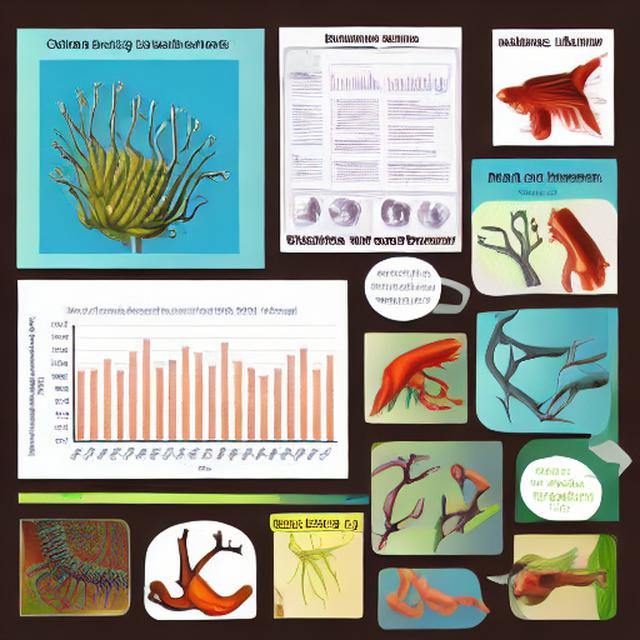Graph: (22, 299, 342, 477), (327, 63, 380, 95)
